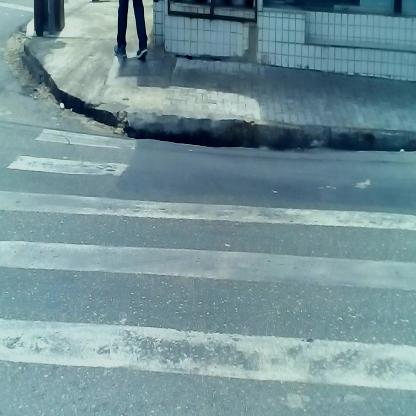crosswalk: (6, 169, 412, 416)
sidewalk: (48, 79, 413, 148)
